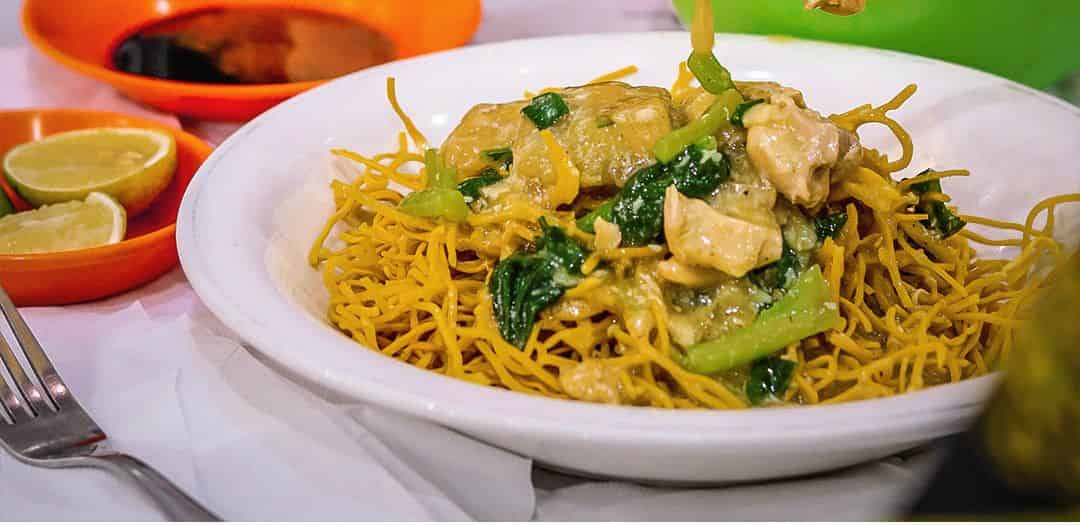Mie: (339, 59, 993, 450)
